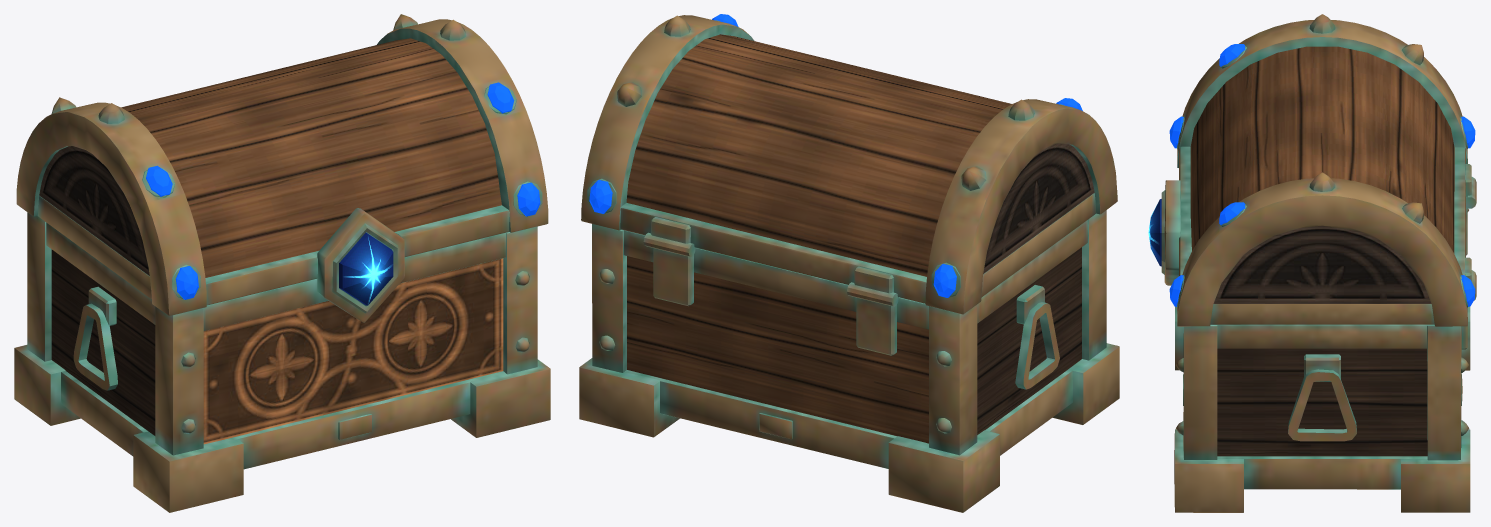
File: chest.glb
3 views of the same model, side by side, from view 1: azimuth 30°, elevation 25°; view 2: azimuth 150°, elevation 25°; view 3: azimuth 270°, elevation 25° (orthographic). The views are drawn at different scales.
Parts seen in each view (by area): view 1: Chest_Base_Wood, Chest_Base_Frame, Chest_Lid_Wood, Chest_Lock, Chest_Lid_Frame; view 2: Chest_Base_Wood, Chest_Base_Frame, Chest_Lid_Wood, Chest_Lid_Frame; view 3: Chest_Base_Frame, Chest_Base_Wood, Chest_Lid_Wood, Chest_Lid_Frame, Chest_Lock.
Boxes of the visible parts, x1,y1,x2,y2 form: Chest_Base_Wood: [51, 38, 503, 444]; Chest_Base_Frame: [14, 14, 550, 512]; Chest_Lid_Wood: [39, 146, 149, 275]; Chest_Lock: [339, 232, 393, 305]; Chest_Lid_Frame: [146, 82, 540, 299]; Chest_Base_Wood: [626, 34, 1081, 443]; Chest_Base_Frame: [579, 15, 1119, 512]; Chest_Lid_Wood: [983, 143, 1094, 273]; Chest_Lid_Frame: [589, 14, 1082, 297]; Chest_Base_Frame: [1161, 14, 1476, 512]; Chest_Base_Wood: [1190, 46, 1454, 456]; Chest_Lid_Wood: [1213, 225, 1431, 303]; Chest_Lid_Frame: [1169, 44, 1475, 306]; Chest_Lock: [1148, 199, 1161, 266].
Bounding box in the file's own units: 1.02 × 0.8936 × 0.801.
7 materials, 6 textured.
